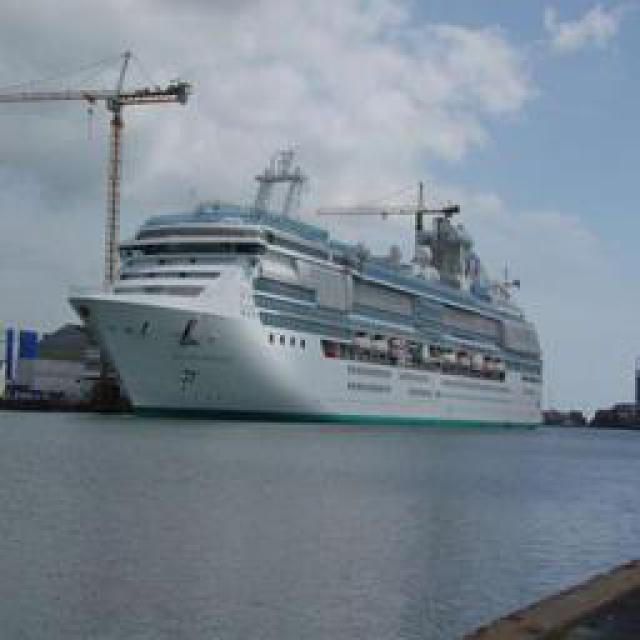Ship: (62, 169, 550, 424)
